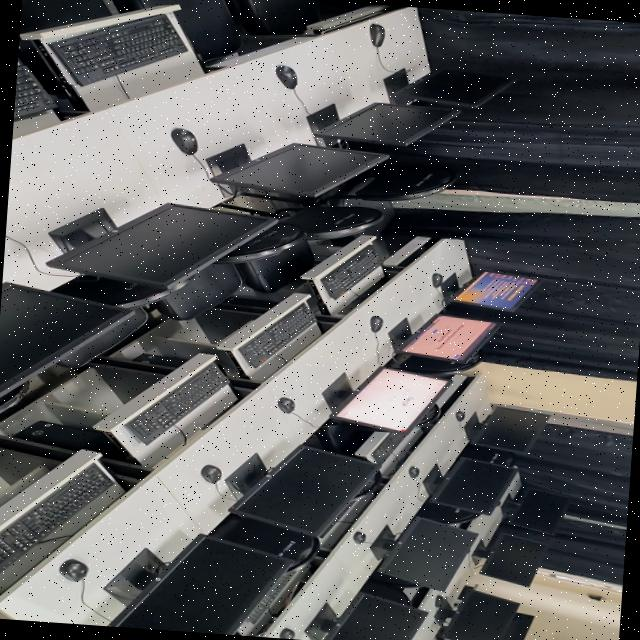Chair: (152, 218, 309, 319), (238, 205, 383, 291), (52, 274, 173, 366), (318, 162, 456, 232), (123, 0, 241, 63), (209, 511, 319, 568), (19, 0, 110, 37), (226, 0, 319, 34), (389, 351, 482, 377), (416, 500, 479, 523), (329, 208, 367, 225)
Cpu: (14, 420, 127, 459), (133, 352, 187, 367)
Keyboard: (0, 462, 115, 569), (48, 12, 187, 85), (125, 362, 228, 443), (238, 302, 314, 366), (322, 243, 381, 297), (248, 569, 295, 622), (13, 64, 57, 118), (371, 430, 409, 463)
Monitor: (47, 202, 276, 299), (108, 533, 292, 635), (0, 281, 136, 396), (230, 444, 377, 536), (210, 142, 387, 201), (371, 514, 477, 589), (336, 367, 446, 431), (314, 101, 459, 145), (423, 456, 518, 514), (322, 590, 428, 640), (385, 68, 515, 107), (396, 313, 497, 359), (435, 585, 519, 640), (474, 528, 547, 584), (464, 405, 550, 452), (450, 270, 539, 310), (501, 482, 569, 533), (504, 611, 534, 640)
Mouse: (171, 126, 197, 154), (59, 558, 88, 580), (276, 64, 297, 88), (201, 463, 222, 482), (370, 23, 385, 46), (277, 396, 295, 412), (370, 315, 383, 331), (279, 627, 295, 639), (353, 530, 366, 542), (432, 272, 443, 286), (409, 465, 420, 477), (456, 409, 464, 420)
